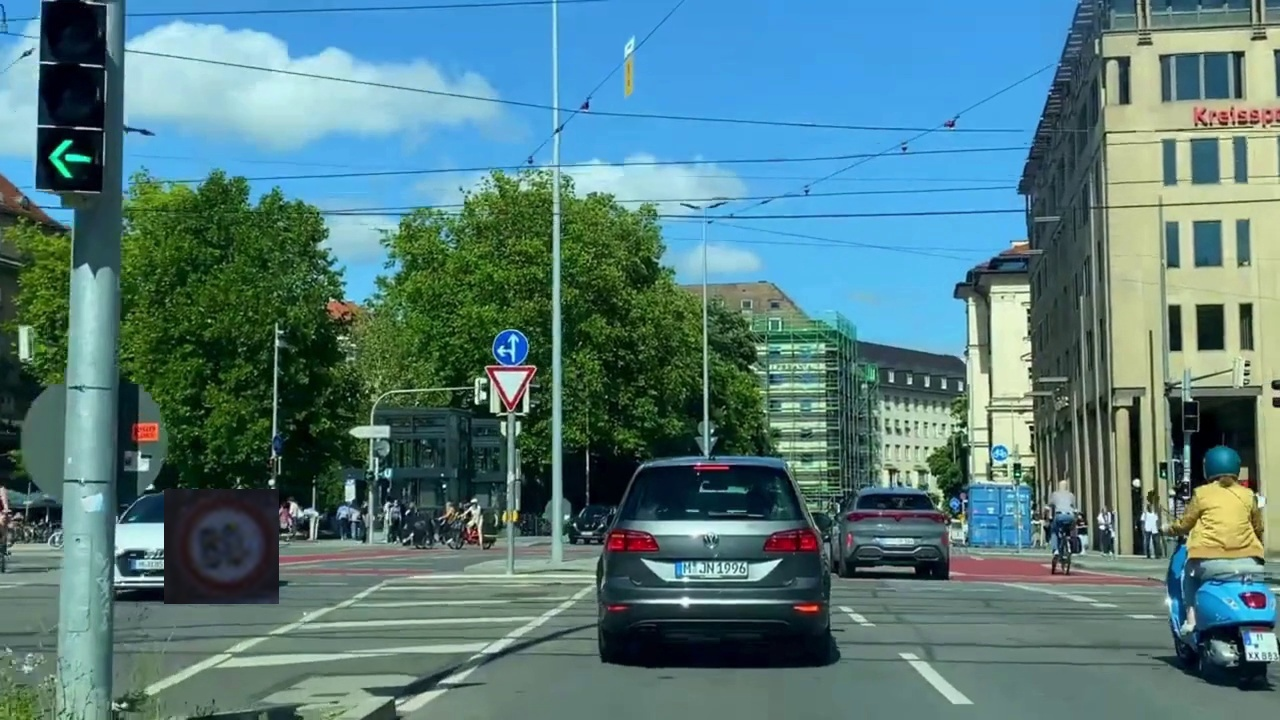Speed 80: (164, 489, 279, 604)
